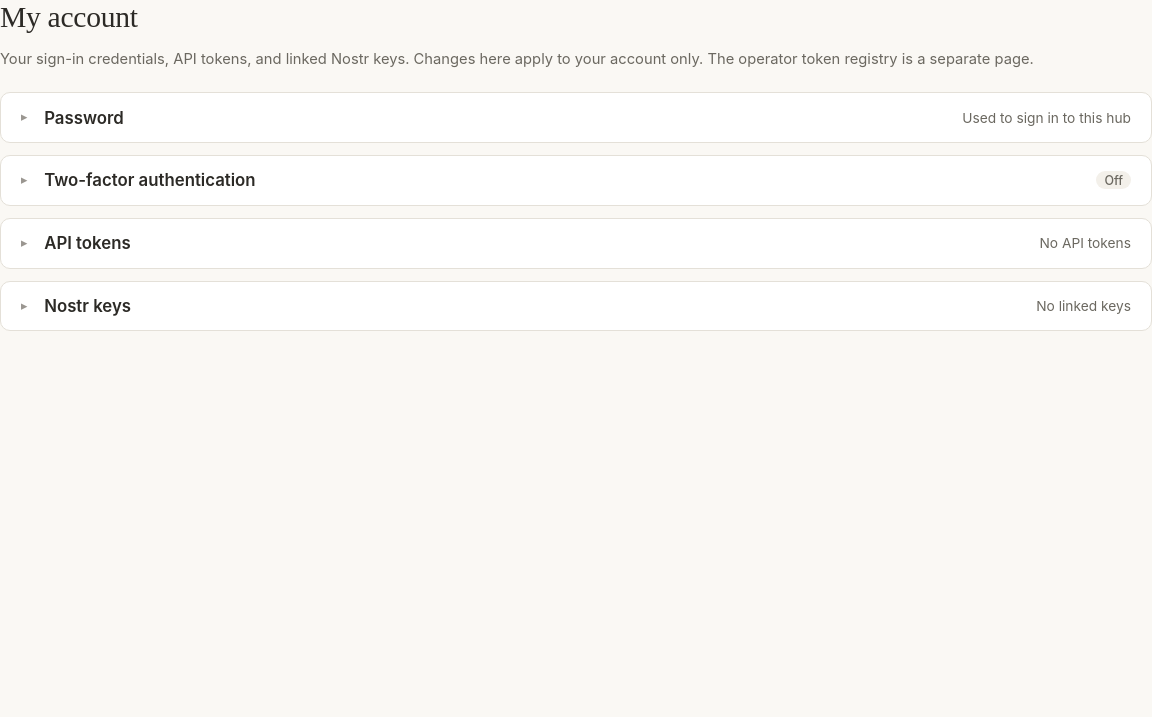
Test: Account — render + status › renders 2FA status Off when not enrolled
Expected: the text with test id "account-2fa-status" reads "Off", [1104,173,1123,188]
Click the button "▸ Two-factor authentication Off".
click(150, 180)  # box [1,156,1151,205]
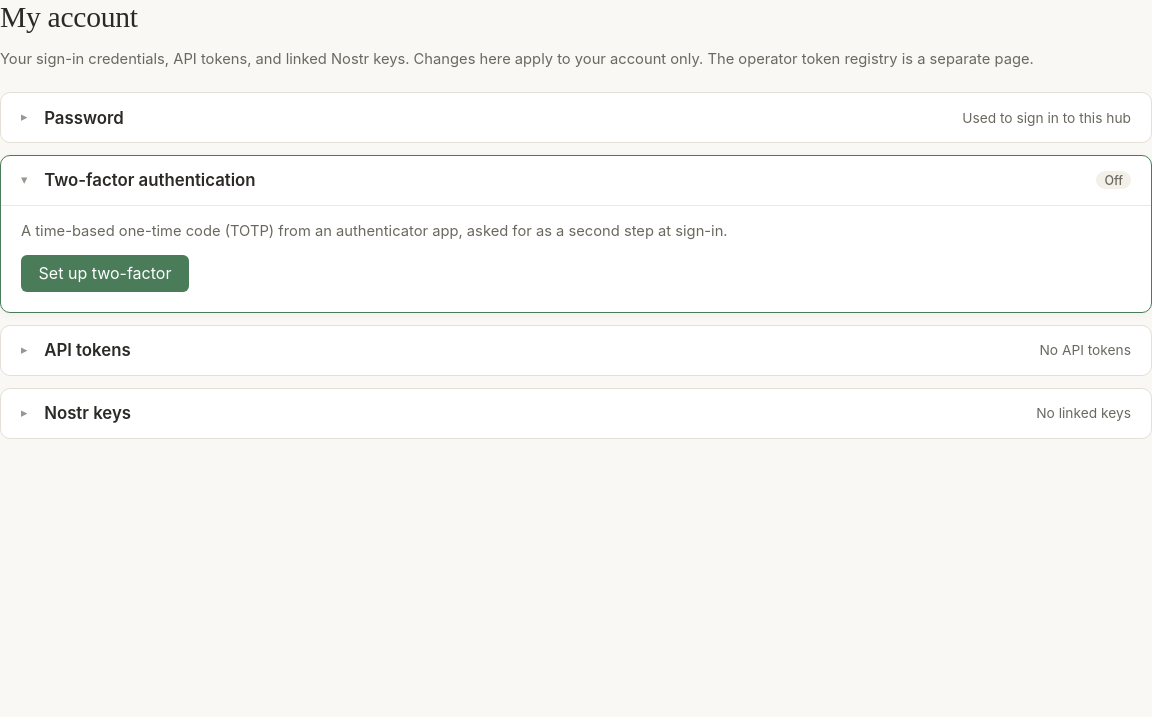
Expected: the button with test id "account-2fa-enroll" is shown, [21,254,189,292]
Click the button with test id "account-password-toggle".
click(84, 118)  # box [1,93,1151,142]
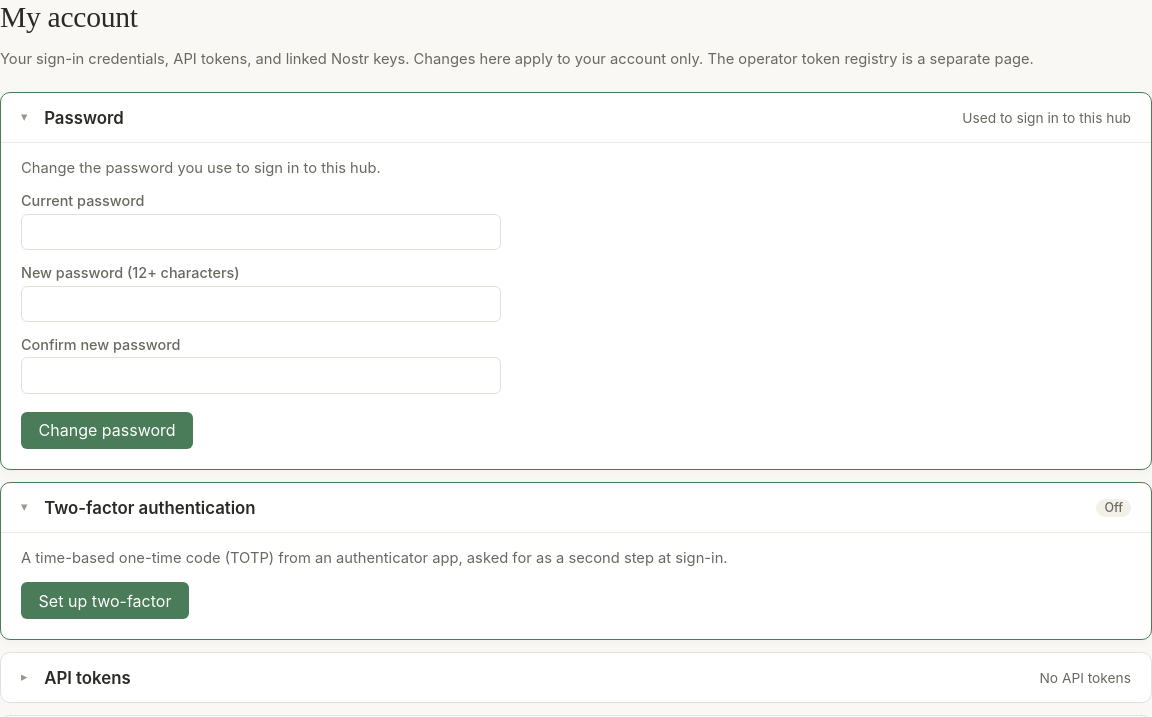
Expected: the password field with test id "account-current-password" is shown, [21,214,501,250]
